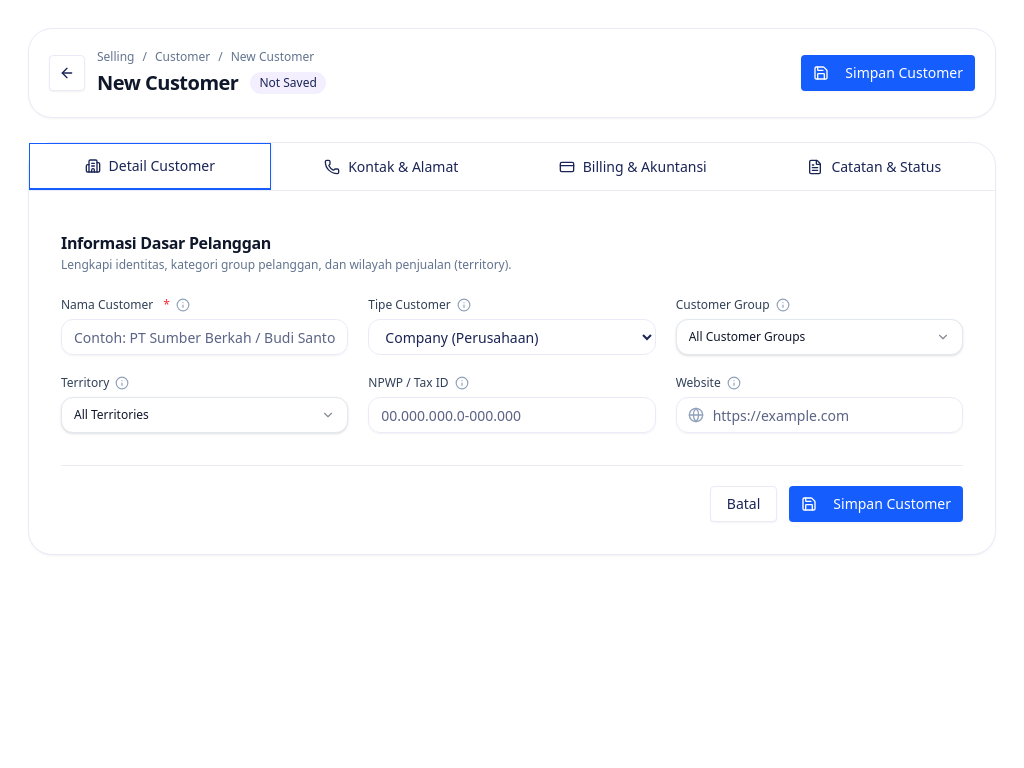
Test: Customer Module - CustomerListPage and CustomerFormPage › validates invalid email format and blocks submission
Check: the heading "New Customer" is shown, box top-left (97, 69), bottom-right (238, 97)
# Fill name
Type "Customer Invalid Email" into the field with placeholder "Contoh: PT Sumber Berkah / Budi Santoso".
click(205, 337); type("Customer Invalid Email")  # box top-left (61, 319), bottom-right (348, 355)
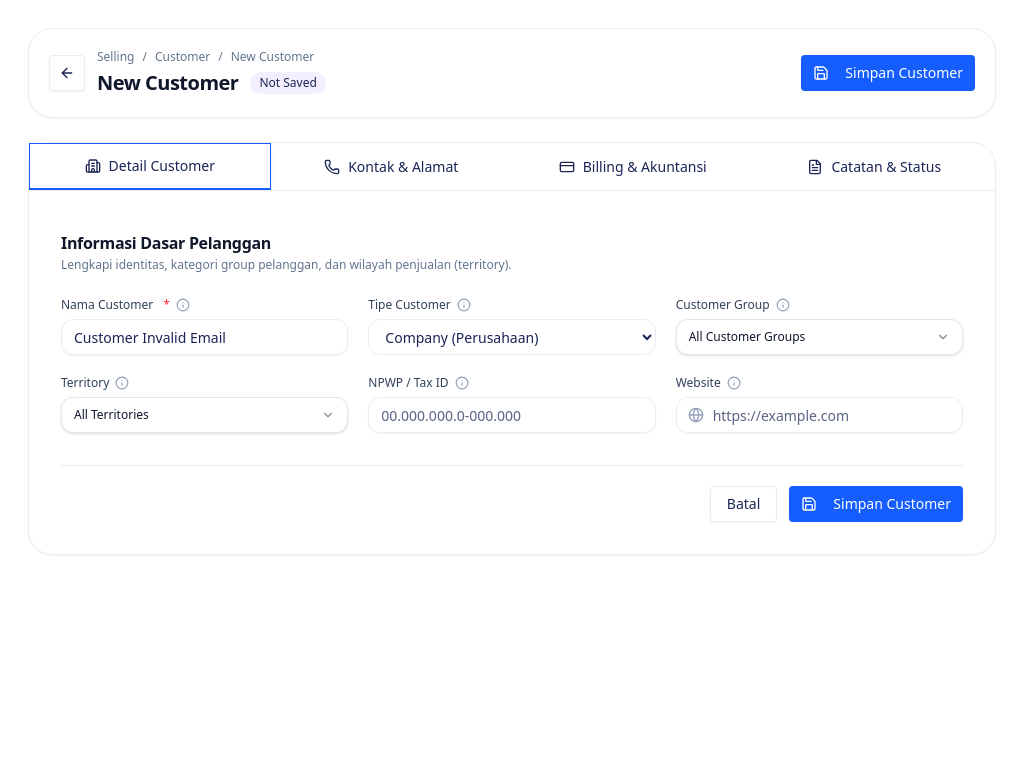
# Go to contact tab and fill wrong email
Click the tab "Kontak & Alamat".
click(391, 166)  # box top-left (270, 144), bottom-right (512, 190)
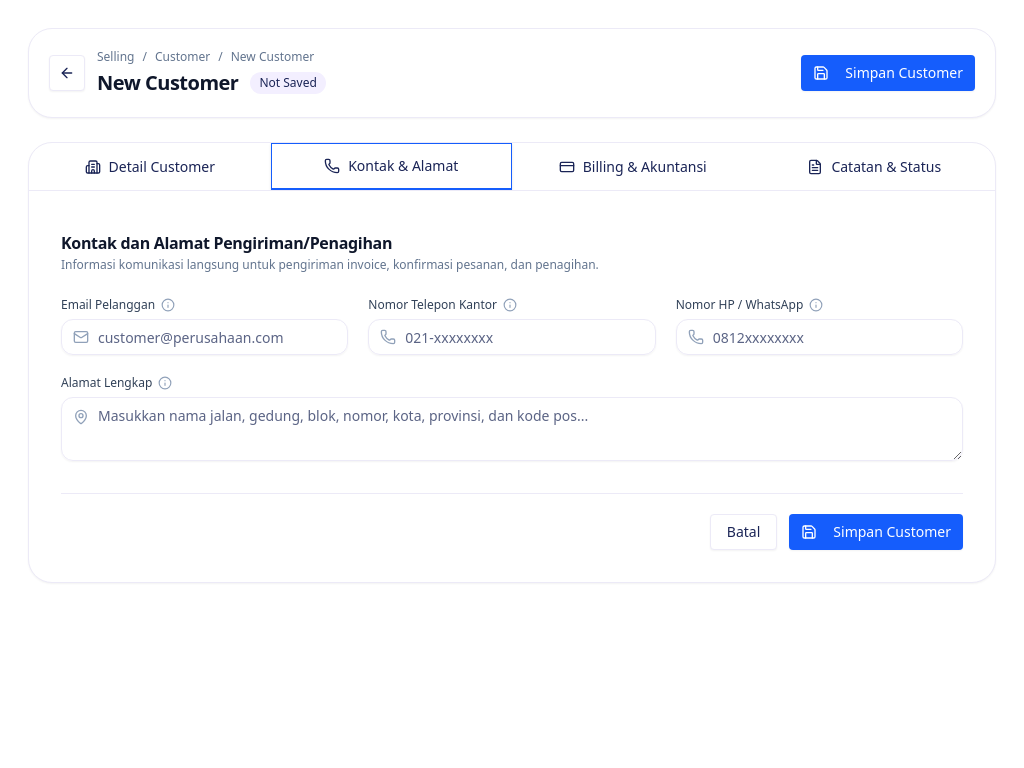
Type "bukan-email-valid" into the field with placeholder "customer@perusahaan.com".
click(205, 337); type("bukan-email-valid")  # box top-left (61, 319), bottom-right (348, 355)
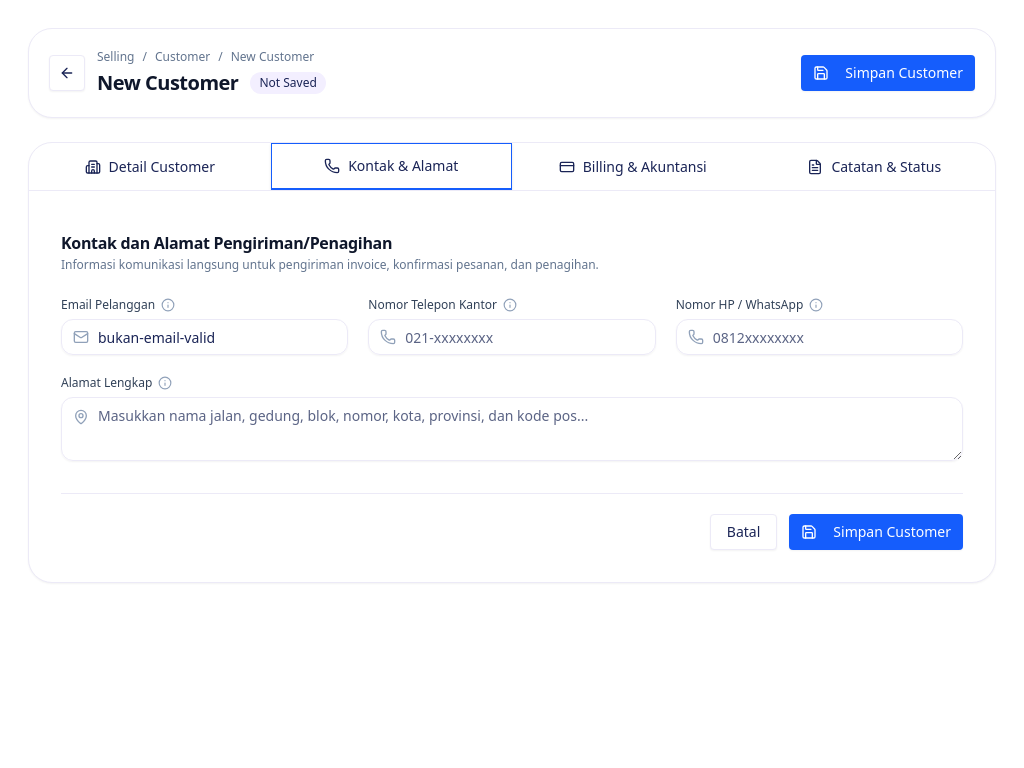
Click the button "Simpan Customer" in the row of "Not Saved".
click(888, 73)  # box top-left (801, 55), bottom-right (975, 91)
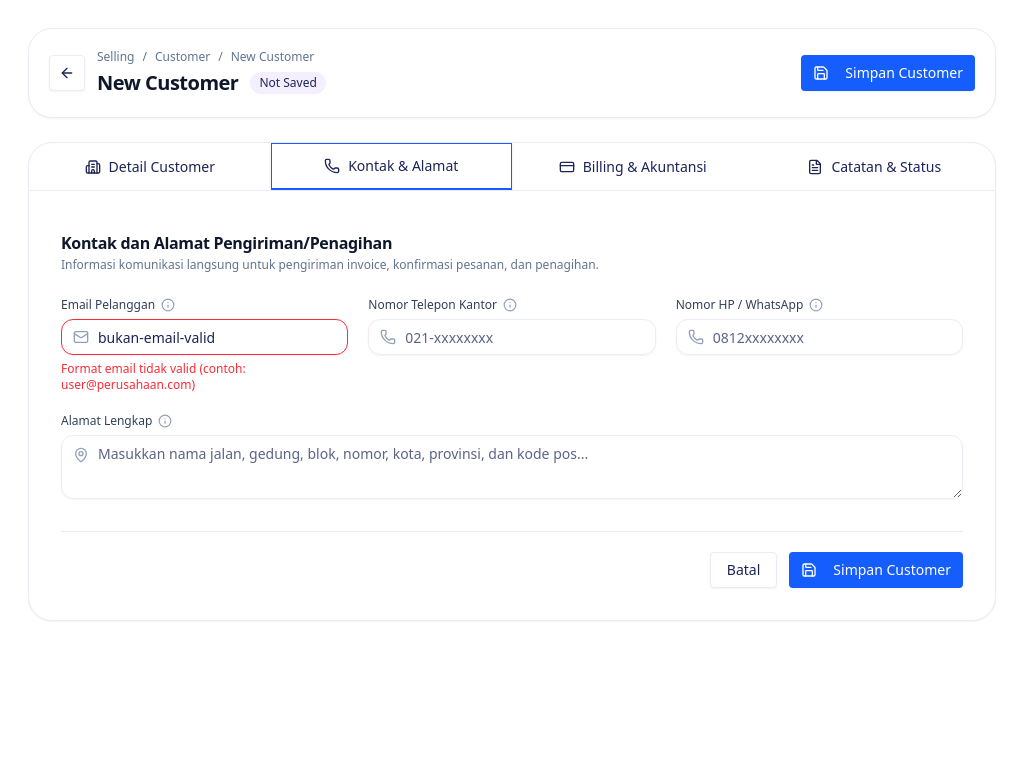
Check: the text "Format email tidak valid (contoh: user@perusahaan.com)" is shown, box top-left (61, 360), bottom-right (246, 393)
